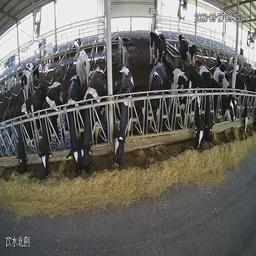cow: (7, 84, 45, 180), (171, 65, 205, 164), (83, 65, 110, 182), (137, 56, 169, 143), (112, 65, 136, 174), (64, 67, 85, 183), (202, 60, 236, 131), (42, 77, 64, 184), (236, 68, 250, 141), (201, 74, 213, 148), (176, 29, 197, 69), (19, 58, 40, 92), (153, 29, 168, 66), (38, 39, 55, 71), (74, 47, 91, 78), (69, 33, 82, 55)
